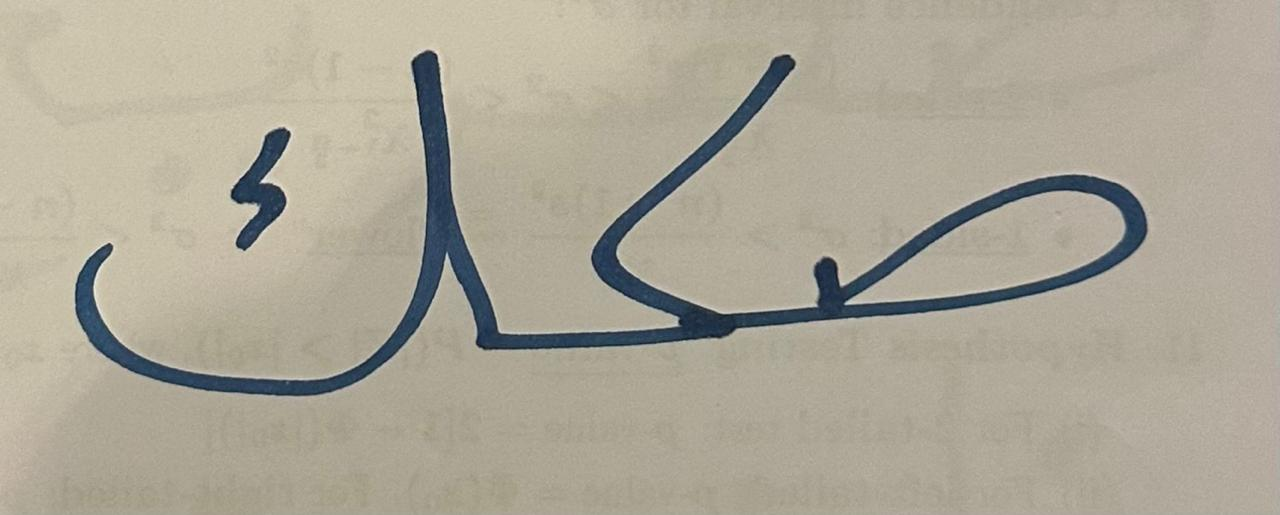khah: (26, 7, 515, 455), (521, 23, 799, 401)
seen: (804, 118, 1195, 390)
